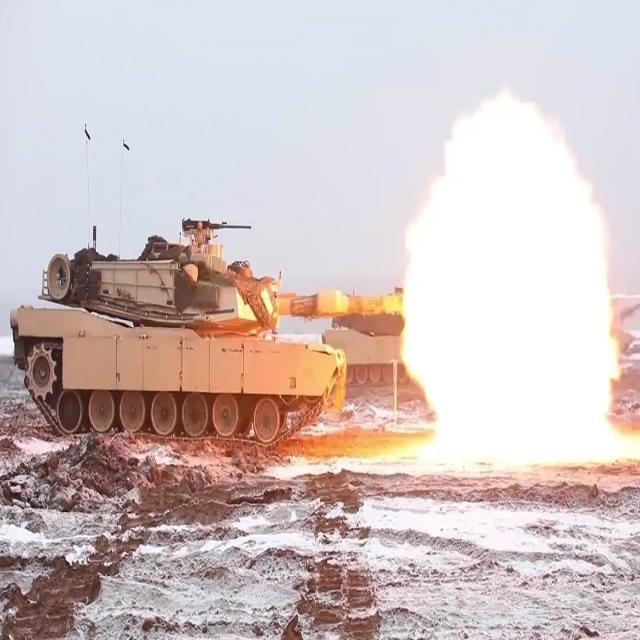Tanks: (7, 230, 358, 452)
